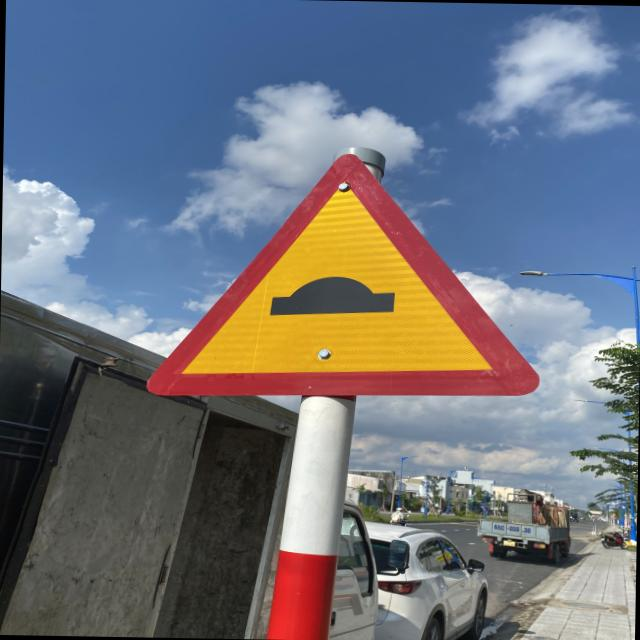Duong_Cong_Ben_Phai: (147, 147, 539, 399)
